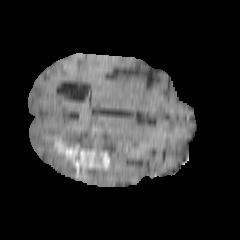glioma: (53, 111, 127, 185)
